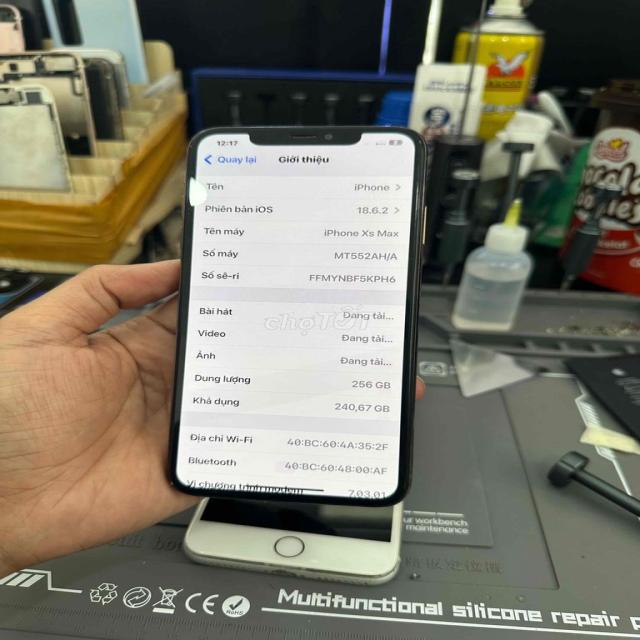gen_x_xs: (169, 127, 426, 506)
scratch: (160, 474, 182, 496)
